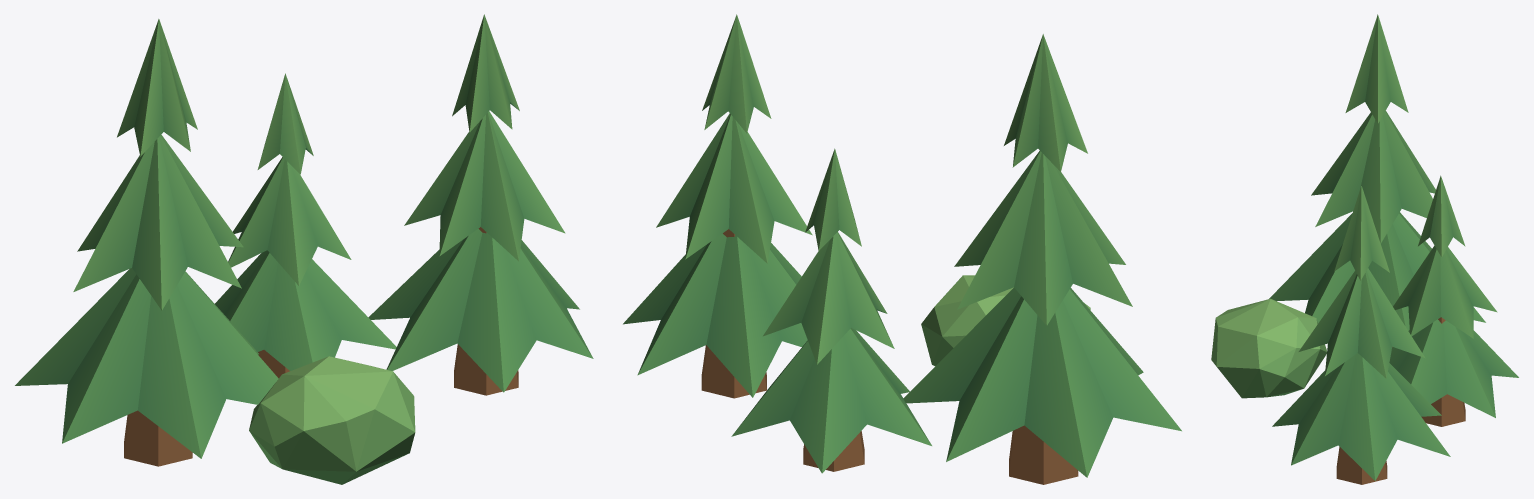
Rendered from ranch_border_sapling_trio.fbx.
The picture shows the model from 3 angles, left to right: view 1: azimuth 30°, elevation 25°; view 2: azimuth 150°, elevation 25°; view 3: azimuth 270°, elevation 25°; orthographic projection. The views are drawn at different scales.
Parts seen in each view (by area): view 1: ranch_border_sapling_trio; view 2: ranch_border_sapling_trio; view 3: ranch_border_sapling_trio.
Part boxes in pixels (x1,y1,x2,y2): ranch_border_sapling_trio: [15, 14, 593, 484]; ranch_border_sapling_trio: [623, 14, 1181, 484]; ranch_border_sapling_trio: [1211, 14, 1518, 484].
Bounding box in the file's own units: 12.19 × 9.35 × 7.74.
